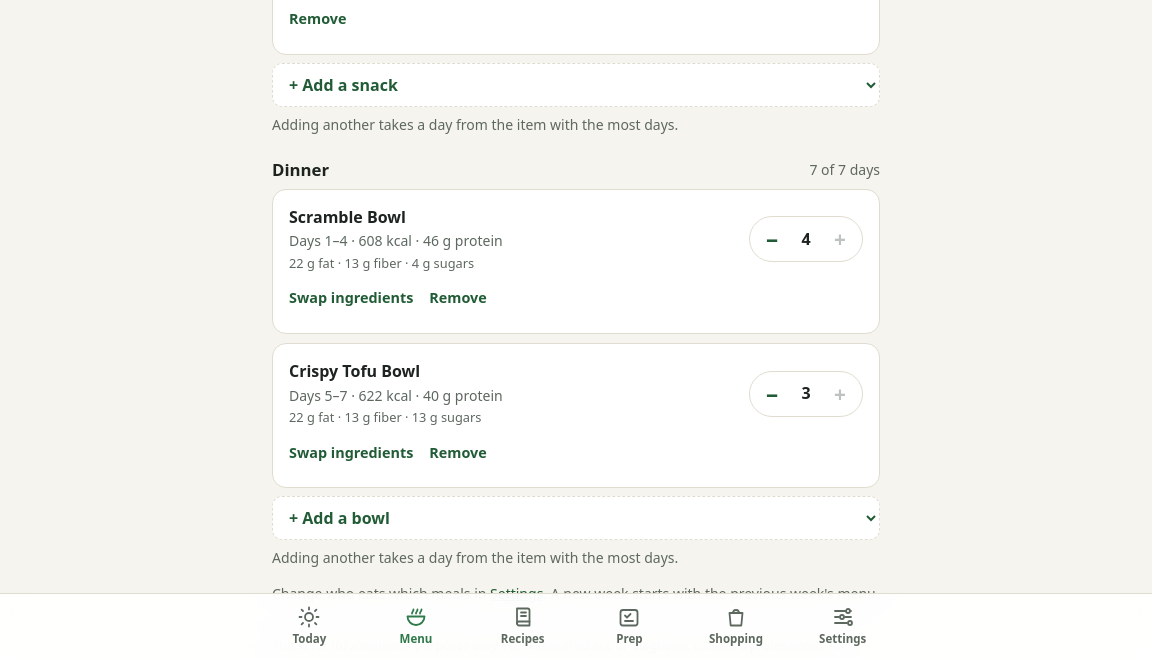
menu stats › shows each person’s daily averages against their targets, and updates as the menu changes
The width and height of the screenshot is (1152, 658).
(page scrolled)
Step 1. Click the button "Remove " below "Scramble Bowl" → click(458, 299), box [429,281,487,317]
(page scrolled)
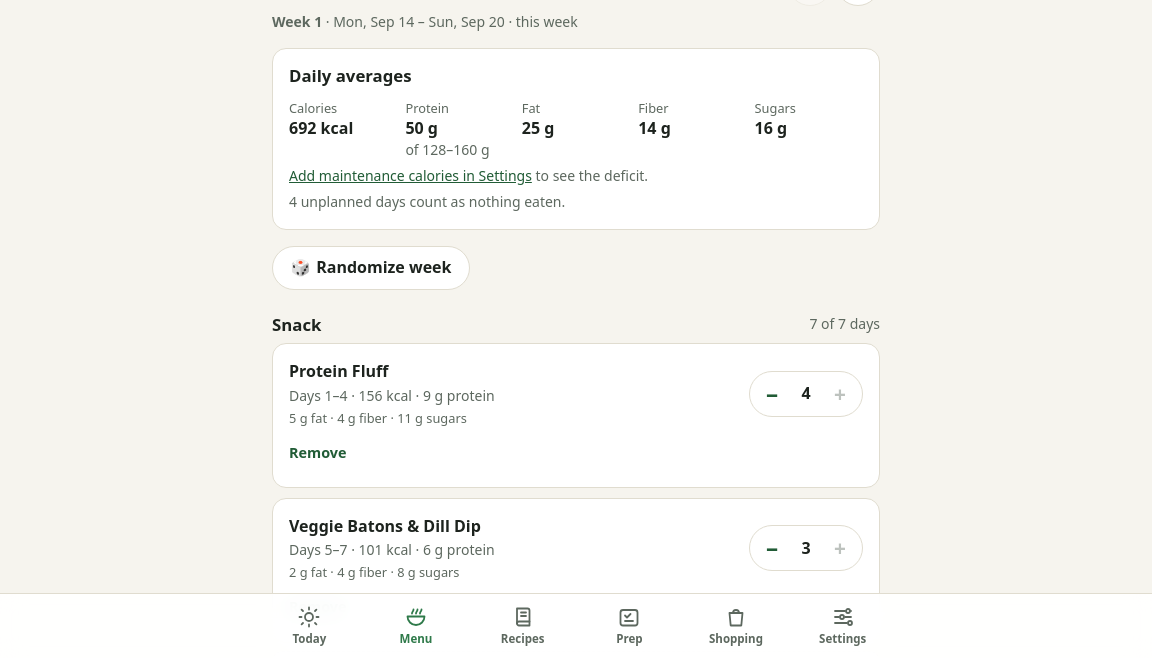
Expected: the element "Daily averages" shows "4 unplanned days count as nothing eaten.", [289,192,565,211]
